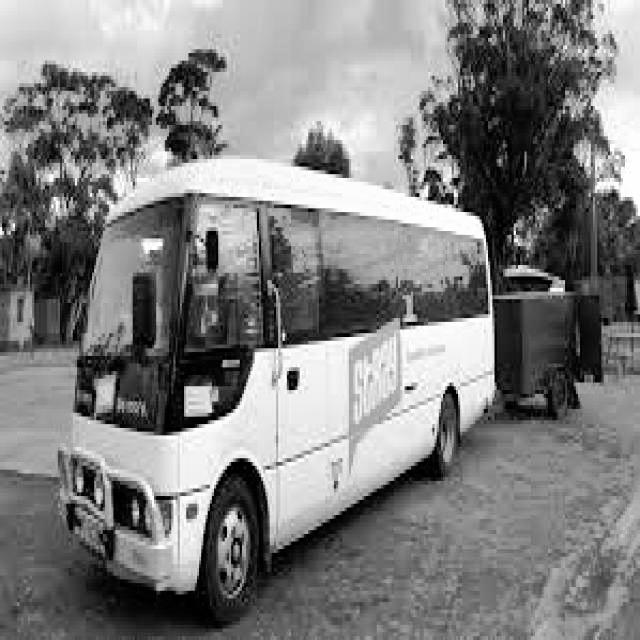Bus: (60, 143, 504, 640)
